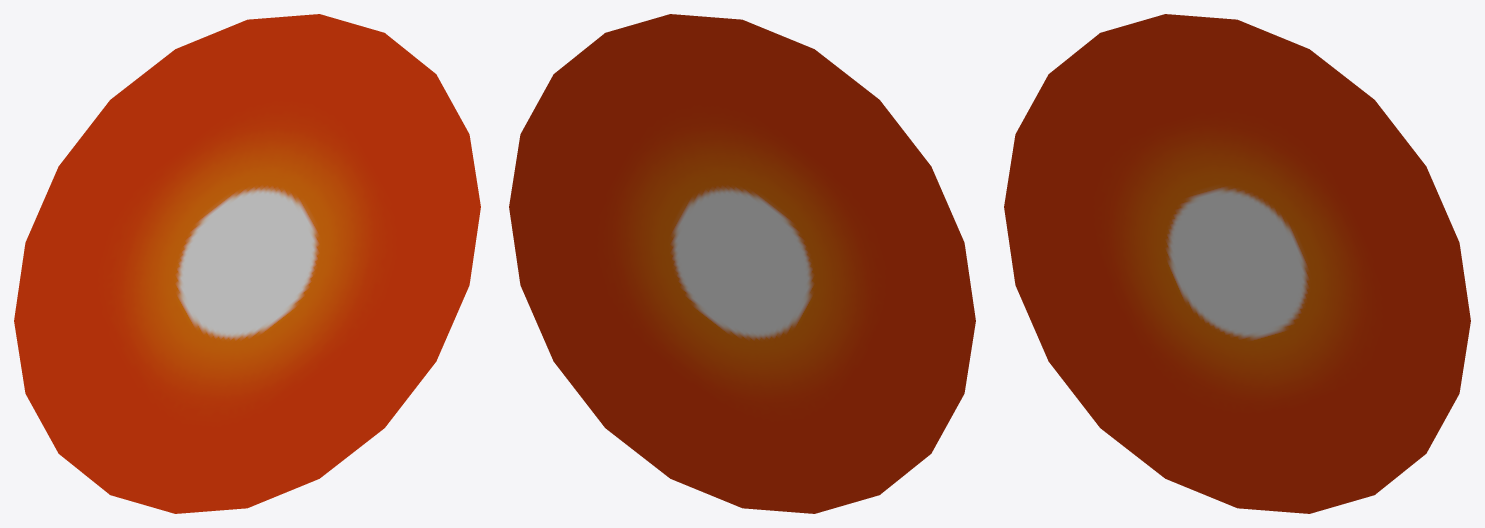
File: bullet_yellow.glb
3 views of the same model, side by side, from view 1: azimuth 30°, elevation 25°; view 2: azimuth 150°, elevation 25°; view 3: azimuth 330°, elevation 25° (orthographic).
Parts seen in each view (by area): view 1: Cylinder; view 2: Cylinder; view 3: Cylinder.
Part boxes in pixels (bbox=[...]): Cylinder: bbox=[14, 14, 480, 513]; Cylinder: bbox=[509, 14, 975, 513]; Cylinder: bbox=[1004, 14, 1470, 513].
Bounding box in the file's own units: 8.02 × 8.02 × 6.05e-07.
Materials: 1 (1 with a texture image).
